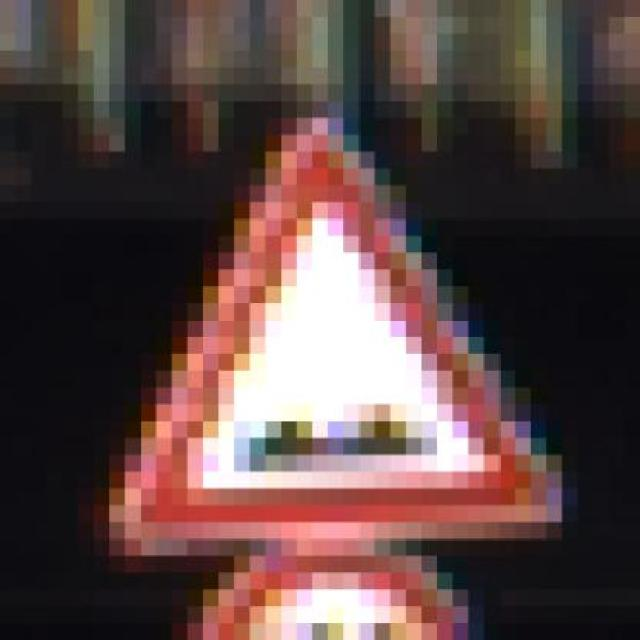Uneven Road: (108, 101, 578, 539)
